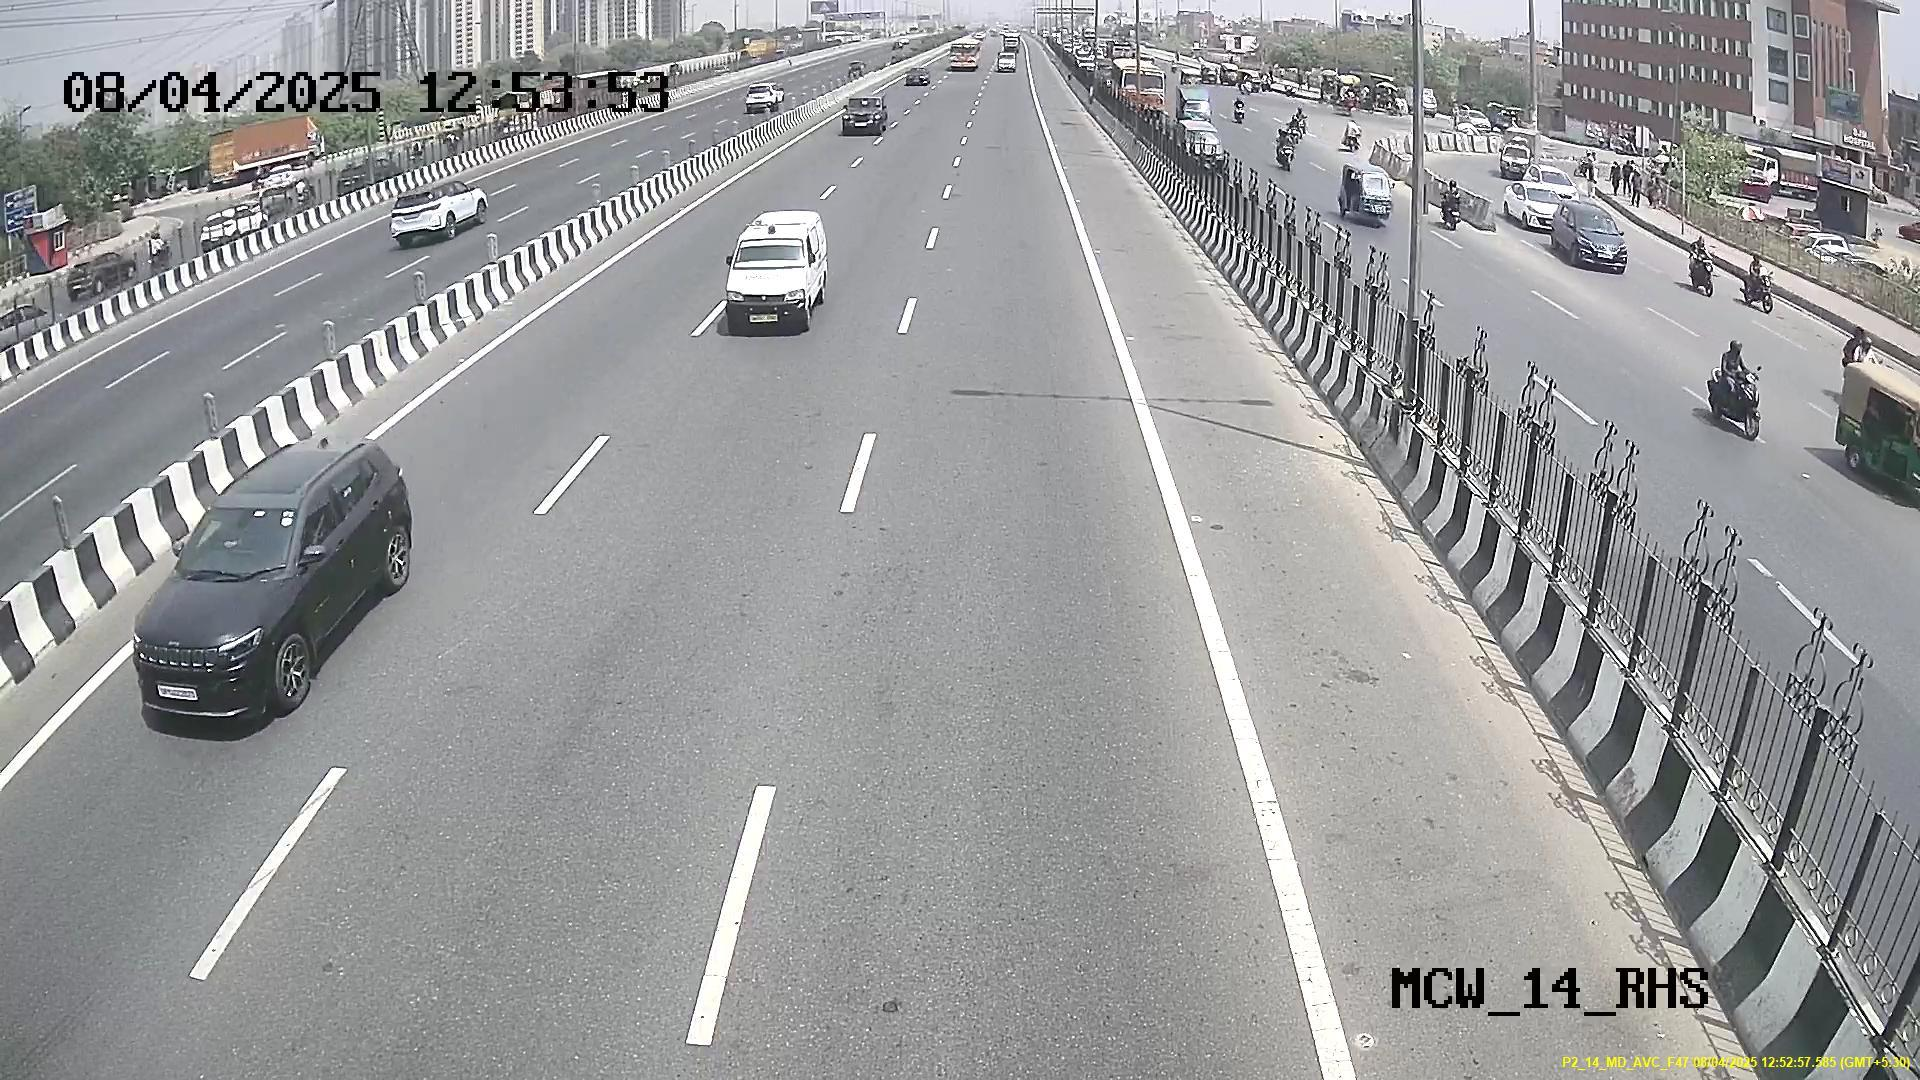car: (131, 476, 342, 725), (720, 220, 825, 336)
